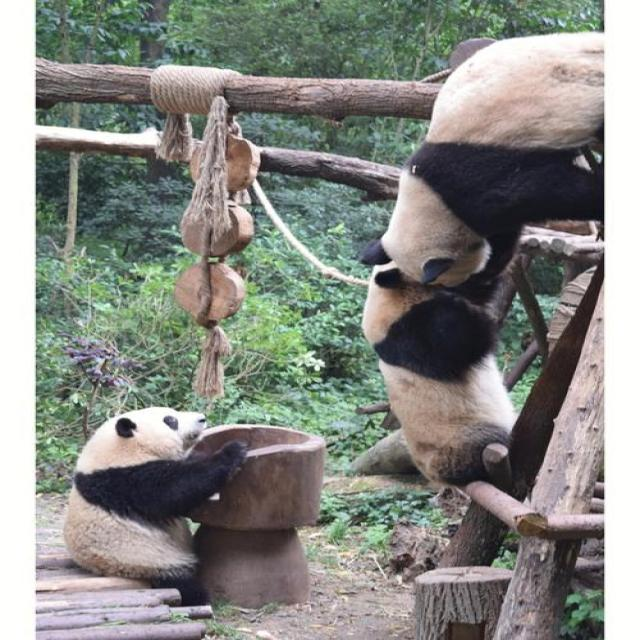panda: (310, 31, 636, 467), (21, 404, 298, 572)
